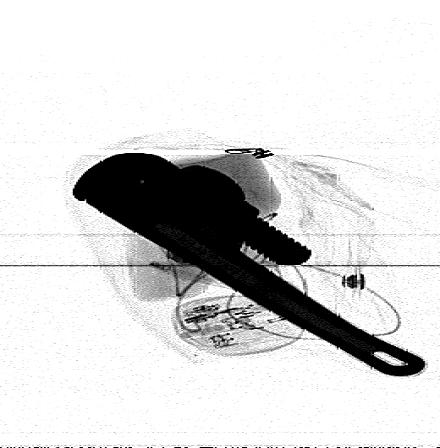Wrench: (70, 151, 423, 378)
